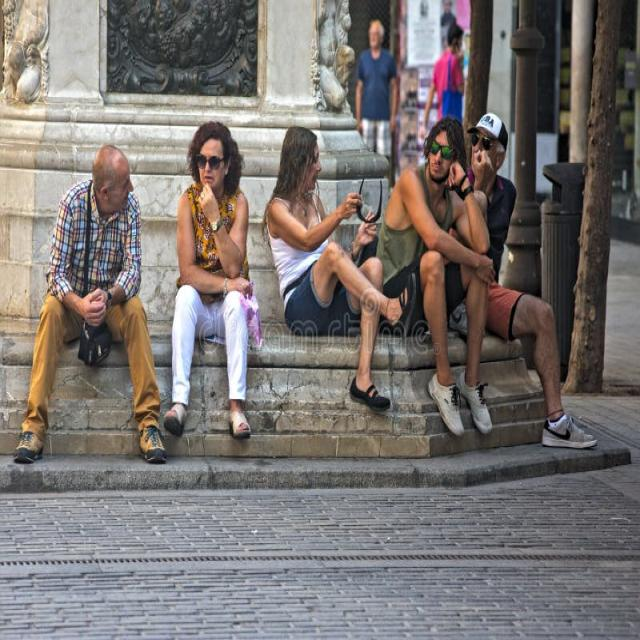human: (463, 93, 614, 449), (23, 136, 165, 464), (264, 118, 418, 402), (373, 122, 500, 426), (162, 119, 261, 441)
loitering: (452, 105, 602, 463), (11, 142, 171, 468), (246, 108, 409, 415), (373, 85, 502, 446), (164, 124, 262, 451), (354, 17, 404, 166)
